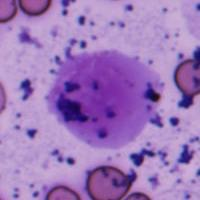D: (45, 48, 161, 150)
